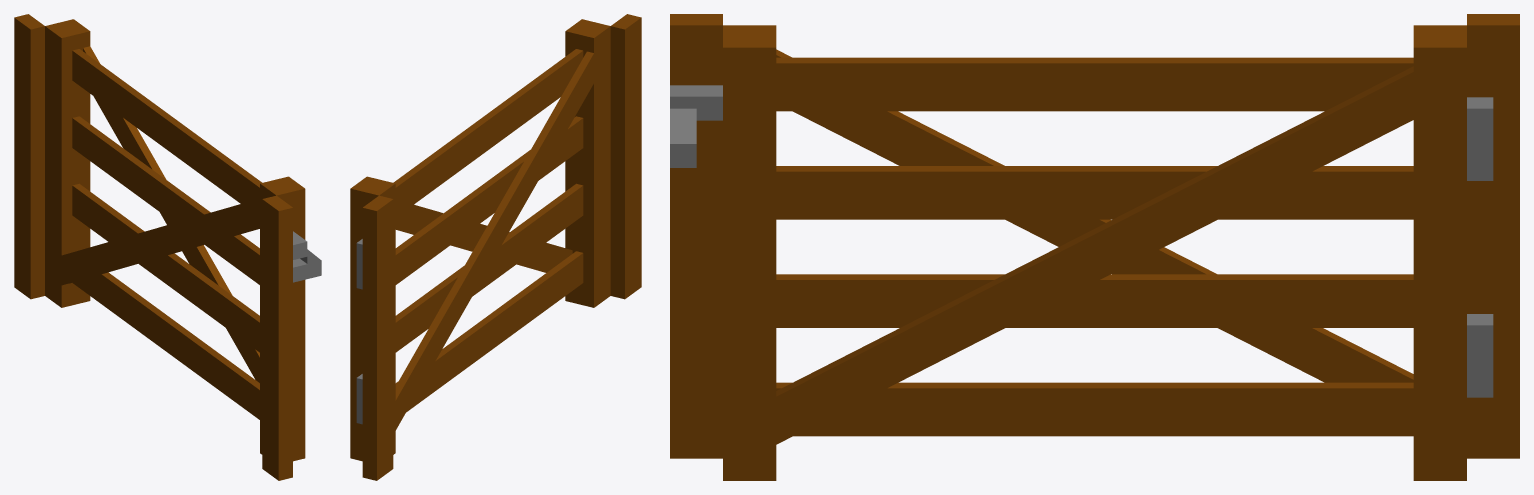
The model's file is woodengateclosed.obj.
3 views of the same model, side by side, from view 1: azimuth 30°, elevation 25°; view 2: azimuth 150°, elevation 25°; view 3: azimuth 270°, elevation 25° (orthographic). The views are drawn at different scales.
Visible parts, largest first — view 1: woodengateclosed_back; view 2: woodengateclosed_back; view 3: woodengateclosed_back.
Part boxes in pixels (x1=…): woodengateclosed_back: x1=14, y1=14, x2=321, y2=480; woodengateclosed_back: x1=350, y1=14, x2=641, y2=480; woodengateclosed_back: x1=670, y1=14, x2=1519, y2=480.
Bounding box in the file's own units: 0.24 × 1.44 × 2.56.
